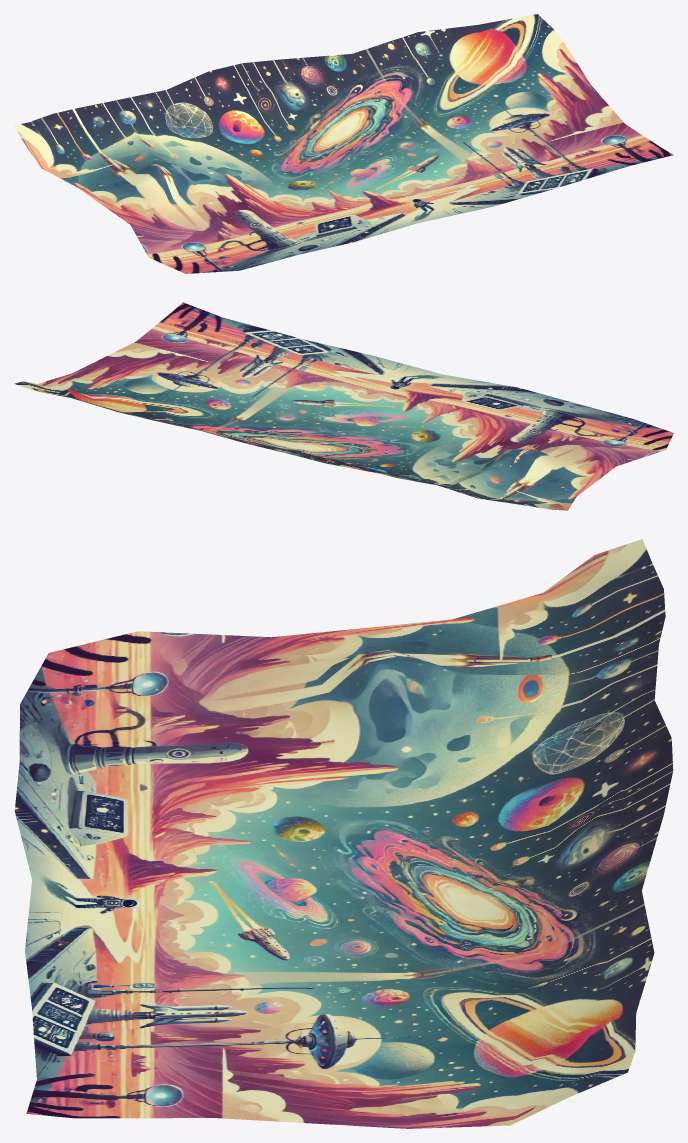
File: BackgroundFBX.fbx
3 views of the same model, one above another, from view 1: azimuth 30°, elevation 25°; view 2: azimuth 150°, elevation 25°; view 3: azimuth 270°, elevation 25° (orthographic). The views are drawn at different scales.
Parts seen in each view (by area): view 1: DepthMapObj; view 2: DepthMapObj; view 3: DepthMapObj.
Boxes of the visible parts, x1=… form: DepthMapObj: x1=14, y1=14, x2=673, y2=273; DepthMapObj: x1=14, y1=302, x2=673, y2=510; DepthMapObj: x1=14, y1=539, x2=673, y2=1128.
Bounding box in the file's own units: 43146 × 3802 × 23282.
1 material, 1 textured.
